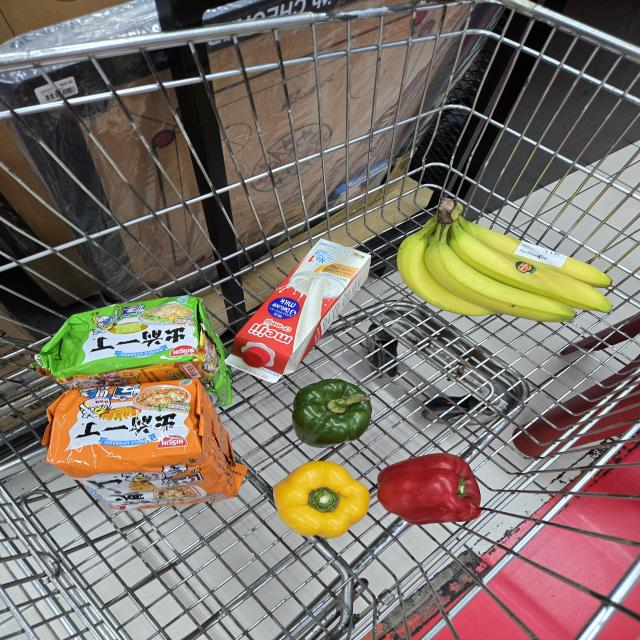banana: (388, 194, 624, 333)
bell-pepper: (370, 452, 485, 530), (267, 457, 372, 537), (289, 382, 374, 451)
instant-noodle: (37, 382, 255, 518), (30, 292, 240, 406)
milk: (224, 230, 378, 392)
